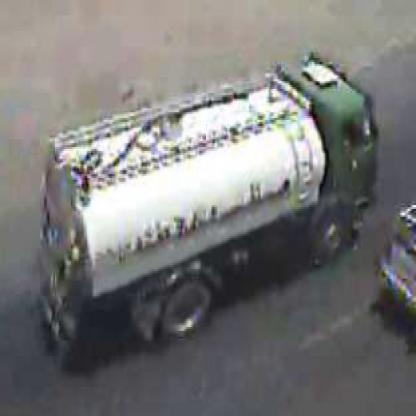truck: (40, 71, 377, 344)
